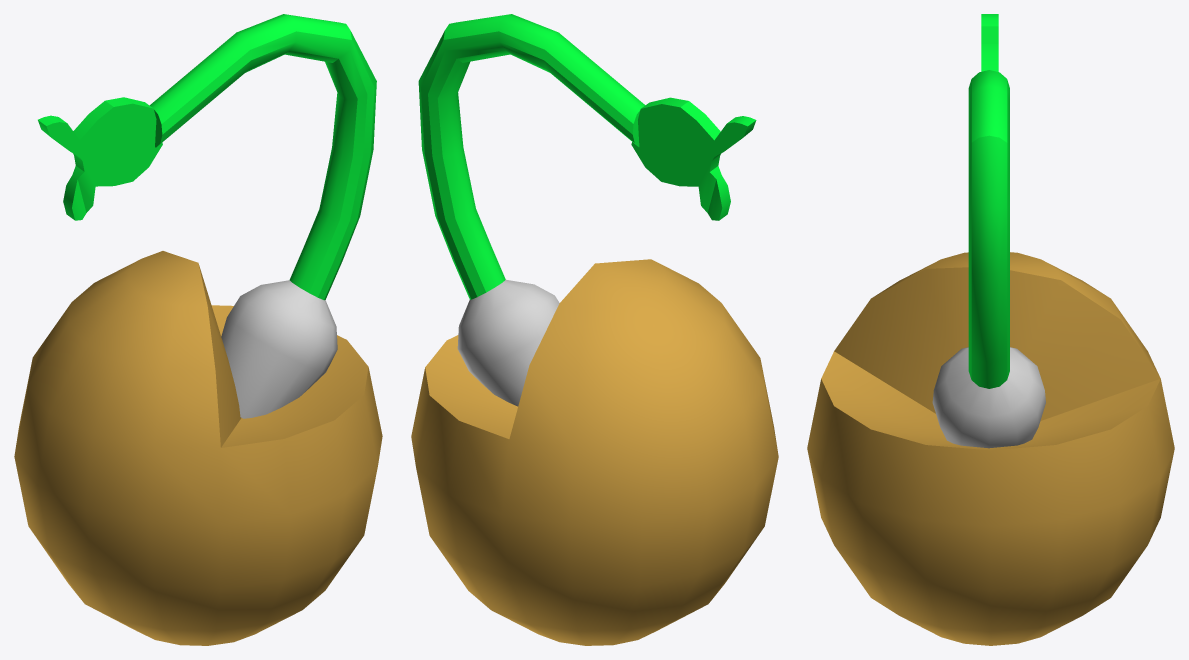
File: SementeGerminando.fbx
3 renders of one model, left to right at view 1: azimuth 30°, elevation 25°; view 2: azimuth 150°, elevation 25°; view 3: azimuth 270°, elevation 25°, orthographic.
Parts seen in each view (by area): view 1: SementeGerminando; view 2: SementeGerminando; view 3: SementeGerminando.
Boxes of the visible parts, x1,y1,x2,y2 form: SementeGerminando: [14, 14, 382, 645]; SementeGerminando: [411, 14, 778, 645]; SementeGerminando: [807, 14, 1174, 645].
Bounding box in the file's own units: 5.2 × 8.79 × 4.98.
Materials: 1 (1 with a texture image).
